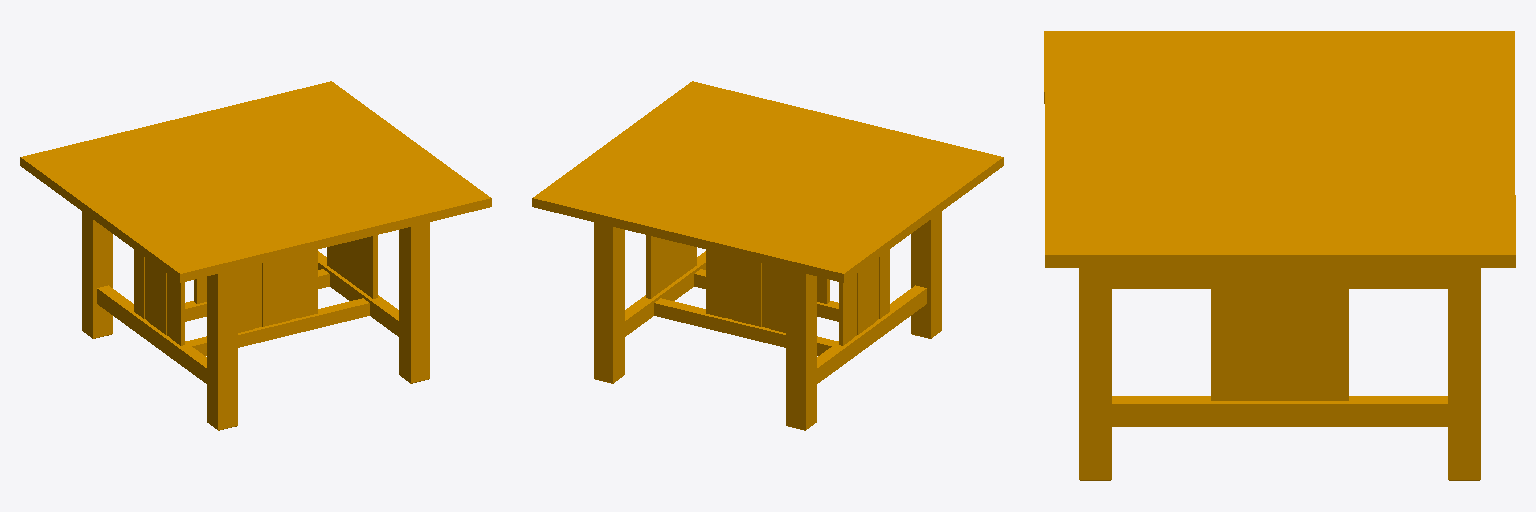
URDF robot description (dining_table_04):
<?xml version="1.0" ?>
<robot name="dining_table_04">
  <link name="baseLink">
    <contact>
      <lateral_friction value="1.0"/>
      <inertia_scaling value="3.0"/>
    </contact>
    <inertial>
      <origin rpy="0 0 0" xyz="-0.000 -0.000 -0.222"/>
       <mass value=".1"/>
       <inertia ixx="1" ixy="0.0" ixz="0.0" iyy="1" iyz="0.0" izz="1"/>
    </inertial>
    <visual>
      <origin rpy="0 0 0" xyz="0 0 0"/>
      <geometry>
        <mesh filename="visual.obj" scale="1.000 1.000 1.000"/>
      </geometry>
      <material name="texture_material">
            <texture filename="texture.png"/>
      </material>
    </visual>
    <collision>
      <origin rpy="0 0 0" xyz="0 0 0"/>
      <geometry>
        <mesh filename="visual.obj" scale="1.000 1.000 1.000"/>
      </geometry>
    </collision>
  </link>
</robot>
        

--- Facts derived from the render (not from the file) ---
The picture shows the robot from 3 angles, left to right: view 1: azimuth 30°, elevation 25°; view 2: azimuth 150°, elevation 25°; view 3: azimuth 270°, elevation 25°; orthographic projection.
Robot: dining_table_04 — 1 links, 0 joints (none); root link baseLink; default pose: every joint at zero.
Visible links, largest first — view 1: baseLink; view 2: baseLink; view 3: baseLink.
Boxes of the visible links, x1,y1,x2,y2 form: baseLink: (20,81,491,430); baseLink: (532,81,1003,430); baseLink: (1044,31,1515,480).
Size in the robot's own frame: 0.8 by 0.7111 by 0.4444 metres.
Meshes: 1 distinct files referenced, 1 mesh visuals loaded (1 OBJ).
